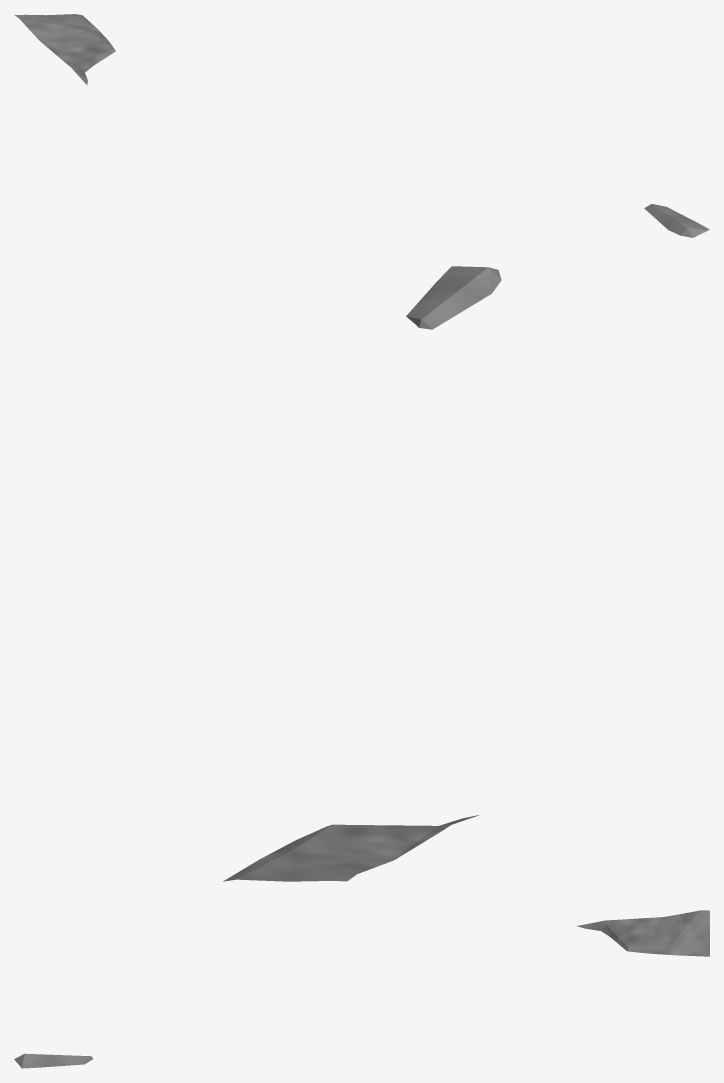
The picture shows the model from 3 angles, top to bottom: view 1: azimuth 30°, elevation 25°; view 2: azimuth 150°, elevation 25°; view 3: azimuth 270°, elevation 25°; orthographic projection. The views are drawn at different scales.
Size of the model in its own units: 0.3056 by 0.0157 by 0.6309.
Materials: 1 (1 with a texture image).
